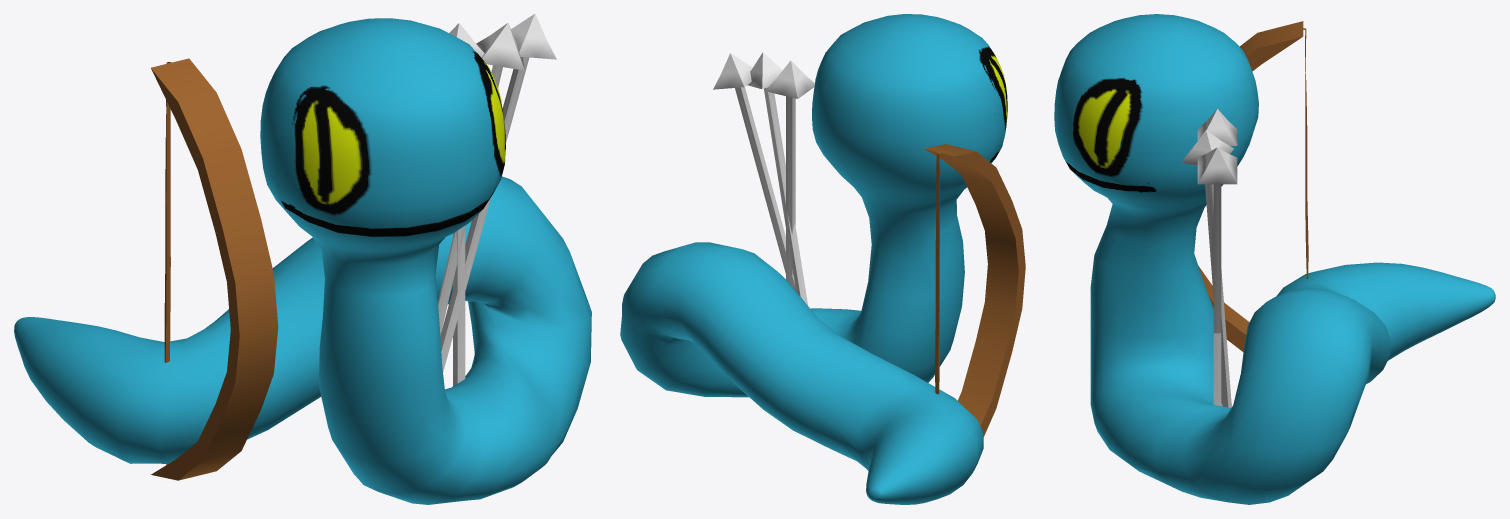
Rendered from bluearcher.fbx.
The picture shows the model from 3 angles, left to right: view 1: azimuth 30°, elevation 25°; view 2: azimuth 150°, elevation 25°; view 3: azimuth 270°, elevation 25°; orthographic projection. The views are drawn at different scales.
Parts seen in each view (by area): view 1: pCylinder1, pPipe1, pasted__pCube1 (×2), pCube1; view 2: pCylinder1, pPipe1, pasted__pCube1 (×2), pCube1; view 3: pCylinder1, pasted__pCube1 (×2), pPipe1, pCube1.
Part boxes in pixels (x1,y1,x2,y2): pCylinder1: (14,18,591,504); pPipe1: (151,58,278,480); pasted__pCube1 (×2): (438,14,556,372); pCube1: (449,23,484,385); pCylinder1: (620,14,1007,504); pPipe1: (924,144,1025,436); pasted__pCube1 (×2): (713,52,808,305); pCube1: (765,60,814,285); pCylinder1: (1054,14,1495,504); pasted__pCube1 (×2): (1182,130,1237,407); pPipe1: (1198,21,1308,351); pCube1: (1197,109,1237,406).
Size of the model in its own units: 3.04 by 2.98 by 2.98.
